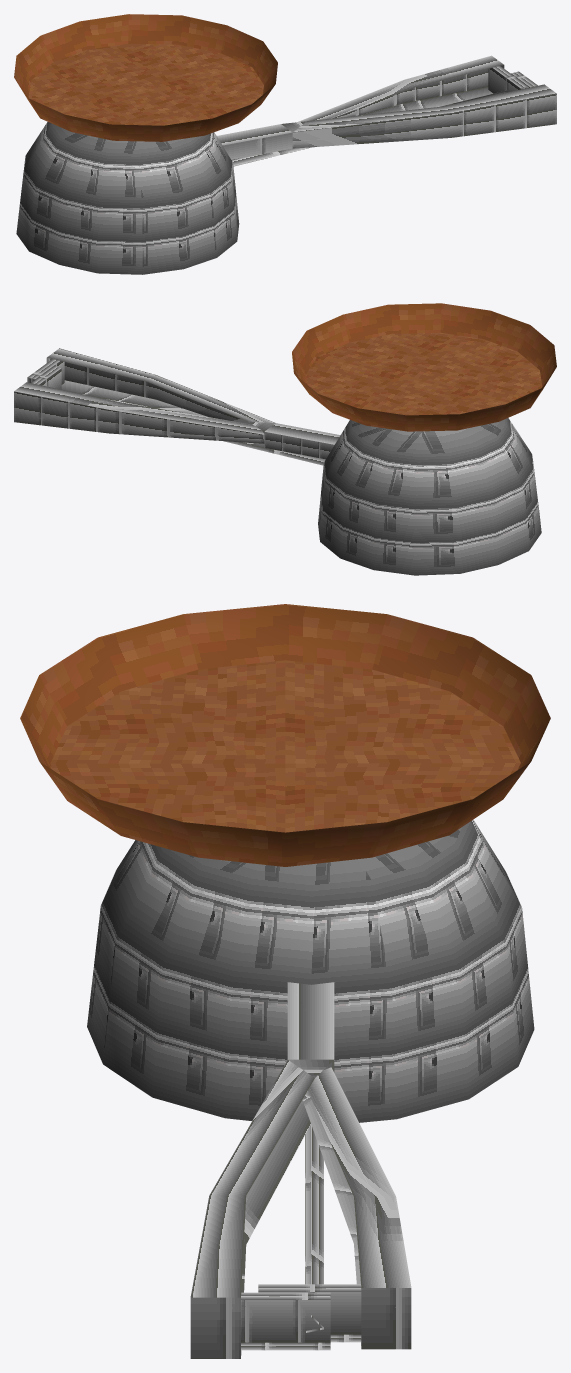
The model's file is disher3.gltf.
The picture shows the model from 3 angles, top to bottom: view 1: azimuth 30°, elevation 25°; view 2: azimuth 150°, elevation 25°; view 3: azimuth 270°, elevation 25°; orthographic projection. The views are drawn at different scales.
Visible parts, largest first — view 1: disher3; view 2: disher3; view 3: disher3.
Boxes of the visible parts, <box> form: disher3: <box>14,14,556,274</box>; disher3: <box>14,303,556,575</box>; disher3: <box>20,604,550,1358</box>.
Size of the model in its own units: 0.6864 by 0.2113 by 0.3129.
4 materials, 4 textured.
